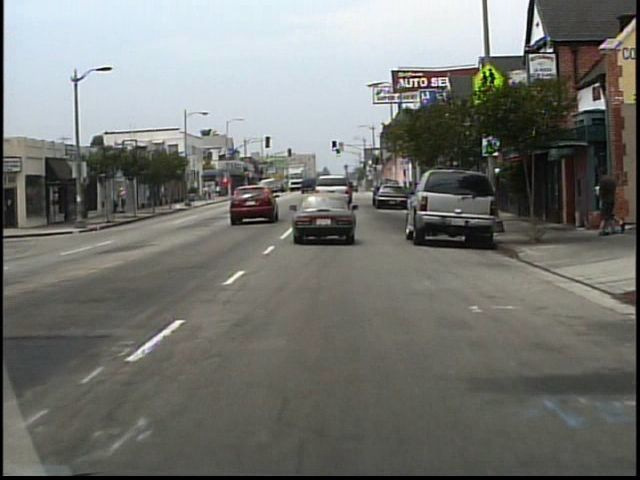person: (597, 165, 624, 236), (592, 171, 616, 233), (120, 186, 132, 214)
